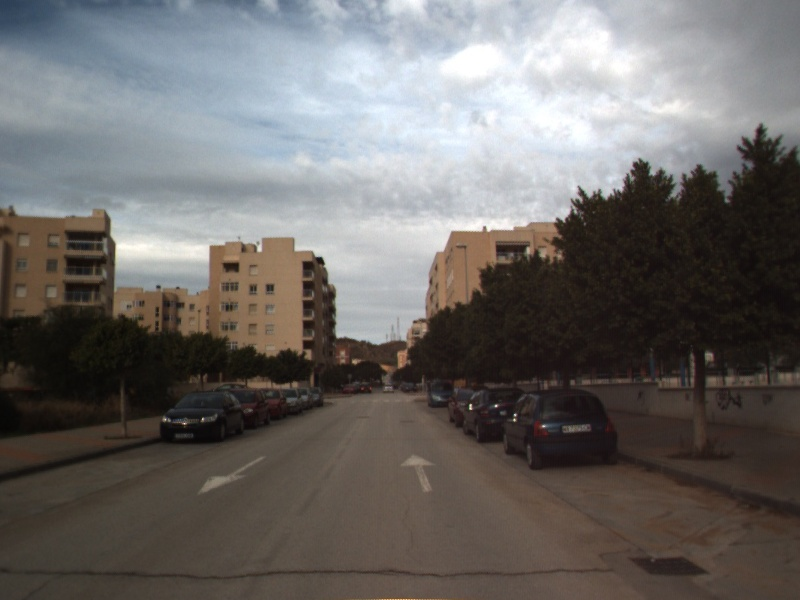STRAIGHT: (398, 452, 439, 494)
